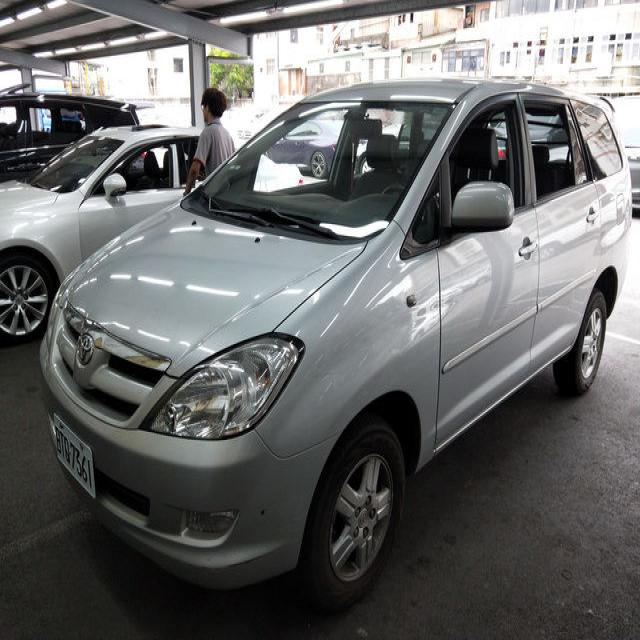light_vehicle: (39, 77, 636, 612)
